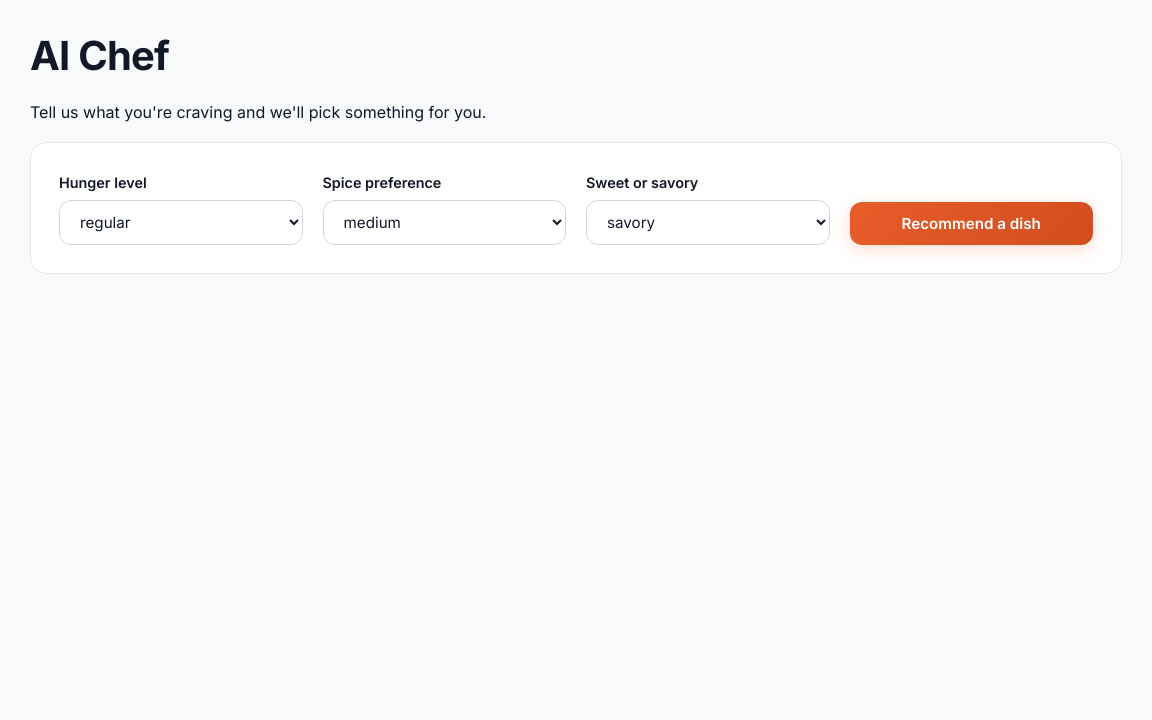
Test: AIChefView renders a recommendation with confidence (Req 8.2, 8.3) › indicates when no exact match was found (Req 8.4)
Click the button "Recommend a dish": (971, 224) [850,202,1093,245]
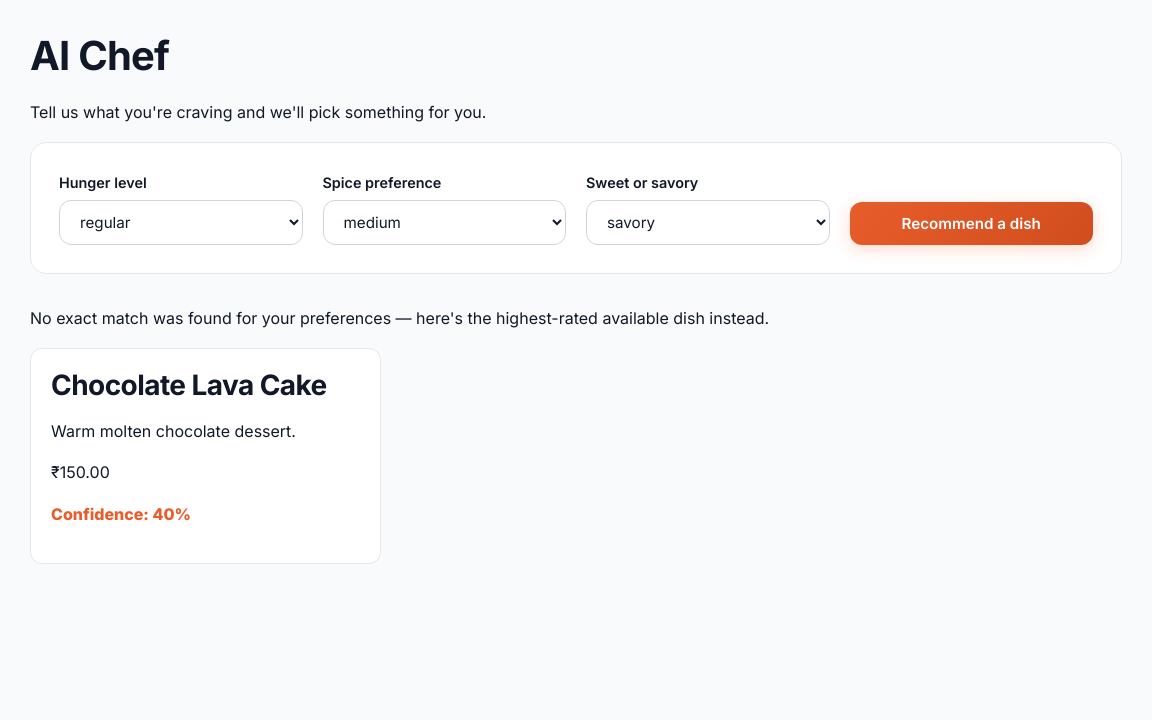
Now the text with test id "ai-chef-no-match" is shown, box [30,308,769,328]
